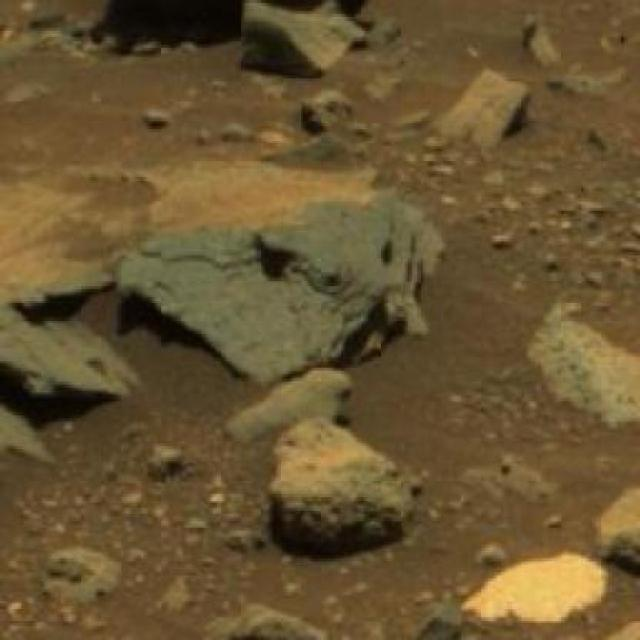rock: (270, 418, 416, 558), (530, 303, 638, 425), (467, 544, 608, 622)
